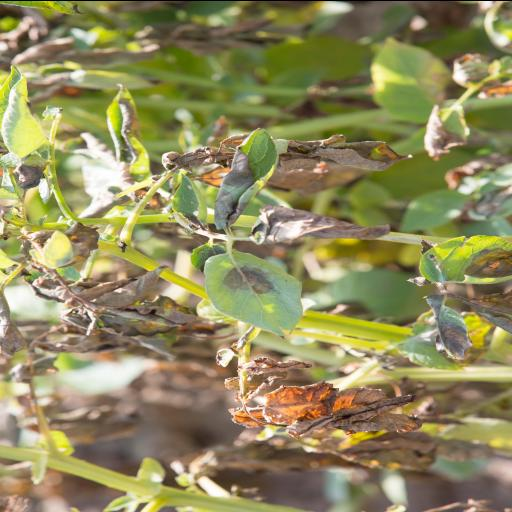disease_tomato: (206, 250, 302, 336)
